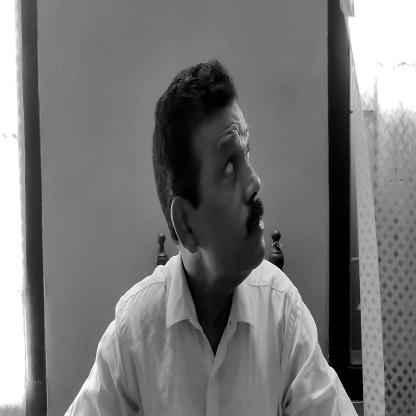Distracted: (151, 71, 273, 290)
